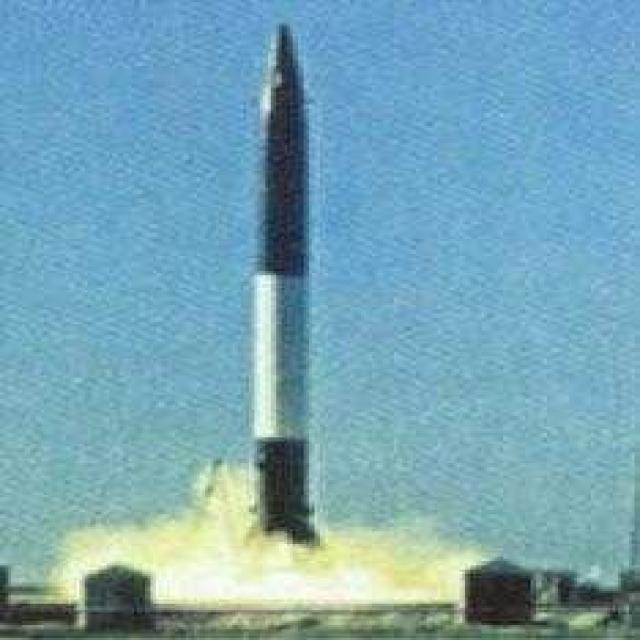missile: (246, 21, 326, 552)
